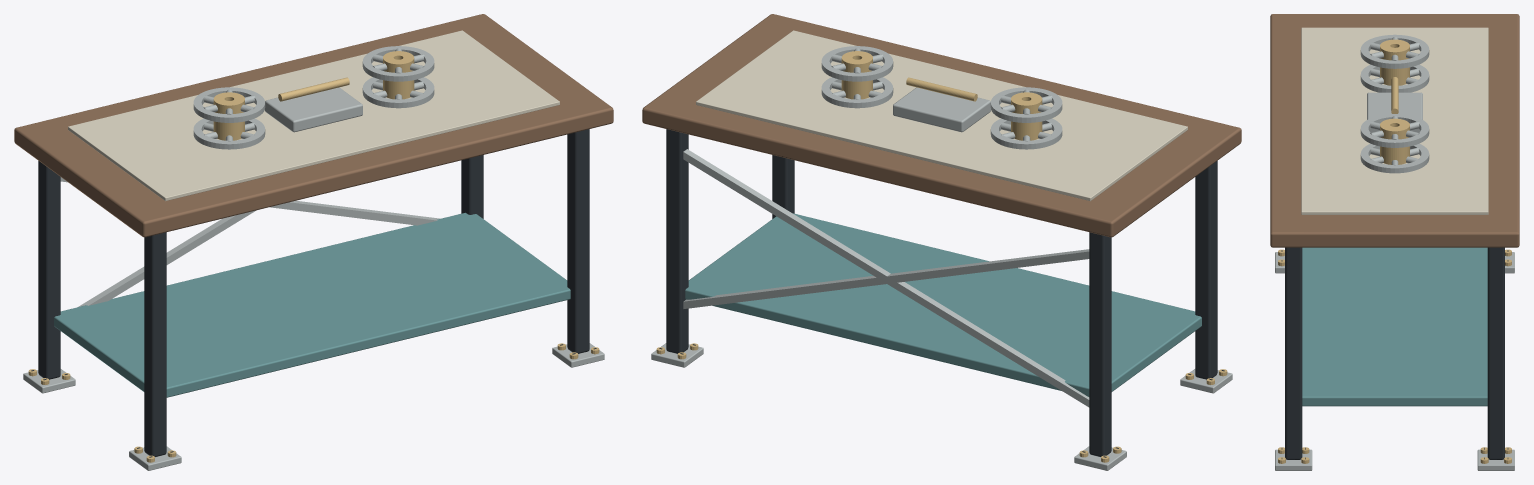
File: abandoned-cinema-and-projection-booth-abandoned-cinema-4a407e26__29710.glb
The picture shows the model from 3 angles, left to right: view 1: azimuth 30°, elevation 25°; view 2: azimuth 150°, elevation 25°; view 3: azimuth 270°, elevation 25°; orthographic projection. The views are drawn at different scales.
Parts seen in each view (by area): view 1: abandoned-cinema-and-projection-booth-splicing-bench; view 2: abandoned-cinema-and-projection-booth-splicing-bench; view 3: abandoned-cinema-and-projection-booth-splicing-bench.
Part boxes in pixels (x1=…): abandoned-cinema-and-projection-booth-splicing-bench: x1=14, y1=14, x2=613, y2=470; abandoned-cinema-and-projection-booth-splicing-bench: x1=642, y1=14, x2=1241, y2=470; abandoned-cinema-and-projection-booth-splicing-bench: x1=1270, y1=14, x2=1519, y2=470.
Size of the model in its own units: 1.67 by 0.988 by 0.8.
